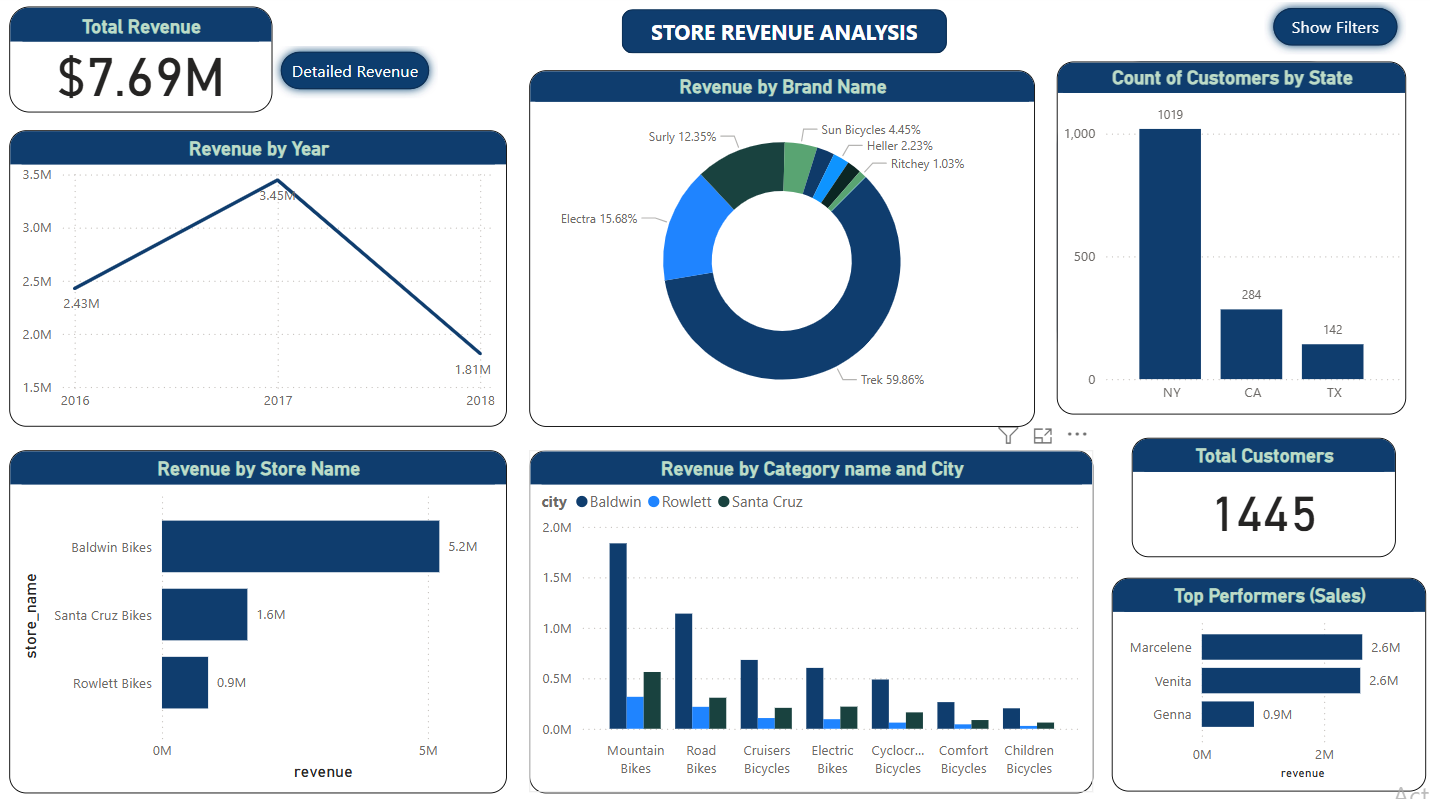

This screenshot's page, from the dashboard's own definition file:
{"tool":"powerbi","page":{"name":"Dashboard","canvas":[1280,720],"ordinal":0},"visuals":[{"type":"barChart","title":"Revenue by Store Name","fields":{"Category":["stores.store_name"],"Y":["Table.revenue"]},"box":[9.9,405.9,443.1,305.4],"z":0},{"type":"clusteredColumnChart","title":"Revenue by Category name and City","fields":{"Category":["categories.category_name"],"Y":["Table.revenue"],"Series":["stores.city"]},"box":[472.9,405.9,502.7,305.4],"z":1000},{"type":"lineChart","title":"Revenue by Year","fields":{"Y":["Table.revenue"],"Category":["orders.order_date.Variation.Date Hierarchy.Year","orders.order_date.Variation.Date Hierarchy.Quarter","orders.order_date.Variation.Date Hierarchy.Month","orders.order_date.Variation.Date Hierarchy.Day"]},"box":[9.9,121.6,443.1,264.4],"z":2000},{"type":"donutChart","title":"Revenue by Brand Name","fields":{"Category":["brands.brand_name"],"Y":["Table.revenue"]},"box":[472.9,68.3,450.6,317.8],"z":3000},{"type":"card","title":"Total Revenue","fields":{"Values":["Table.revenue"]},"box":[9.7,10.9,234,94.1],"z":4000},{"type":"shape","box":[244.3,43.9,148.2,49.4],"z":5000},{"type":"barChart","title":"Top Performers (Sales)","fields":{"Y":["Table.revenue"],"Category":["staffs.first_name"]},"box":[991.7,520,279.9,190.6],"z":6000},{"type":"card","title":"Total Customers","fields":{"Values":["Table.Total Customers"]},"box":[1009.8,395.7,235.3,106.2],"z":7000},{"type":"shape","box":[555,10.9,289.5,43.4],"z":8000},{"type":"group","id":"g1","title":"Group 1","box":[943.4,59.6,299.6,313.4],"z":8500},{"type":"columnChart","title":"Count of Customers by State","fields":{"Category":["customers.state"],"Y":["customers.customer_id"]},"box":[943.4,59.6,311.6,314],"z":9000},{"type":"shape","box":[1128,4.8,126.7,49.5],"z":10000},{"type":"shape","box":[943.4,59.6,299.6,313.4],"z":12000,"group":"g1"},{"type":"shape","box":[1109.3,330.7,93.1,41],"z":12250,"group":"g1"},{"type":"slicer","title":"Order Status","fields":{"Values":["orders.order_status_category"]},"box":[975.2,266.2,234.6,65.8],"z":12500,"group":"g1"},{"type":"slicer","title":"Order Date","fields":{"Values":["orders.order_date"]},"box":[976.3,154.8,235.5,98.7],"z":13000,"group":"g1"},{"type":"slicer","title":"City","fields":{"Values":["stores.city"]},"box":[976.3,76.9,235.5,65.8],"z":13500,"group":"g1"}]}

Visuals, with their boxes in screenshot pixels (x1, y1, x2, y2), scaled from the page's 1280x720 canvas onto the 1430x799 screenshot:
"Revenue by Store Name" barChart: rect(11, 450, 506, 789)
"Revenue by Category name and City" clusteredColumnChart: rect(528, 450, 1090, 789)
"Revenue by Year" lineChart: rect(11, 135, 506, 428)
"Revenue by Brand Name" donutChart: rect(528, 76, 1032, 428)
"Total Revenue" card: rect(11, 12, 272, 117)
shape: rect(273, 49, 438, 104)
"Top Performers (Sales)" barChart: rect(1108, 577, 1421, 789)
"Total Customers" card: rect(1128, 439, 1391, 557)
shape: rect(620, 12, 943, 60)
"Group 1" group: rect(1054, 66, 1389, 414)
"Count of Customers by State" columnChart: rect(1054, 66, 1402, 415)
shape: rect(1260, 5, 1402, 60)
shape: rect(1054, 66, 1389, 414)
shape: rect(1239, 367, 1343, 412)
"Order Status" slicer: rect(1089, 295, 1352, 368)
"Order Date" slicer: rect(1091, 172, 1354, 281)
"City" slicer: rect(1091, 85, 1354, 158)
